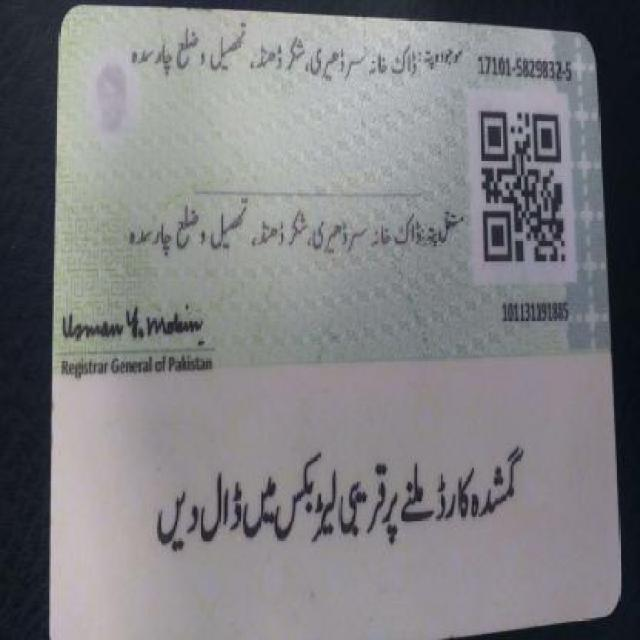Back: (28, 2, 629, 630)
